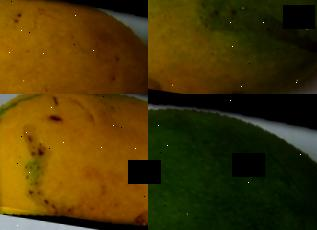PartiallyRipe: (148, 0, 317, 94)
Ripe: (0, 94, 148, 230), (0, 0, 148, 94)
Unripe: (148, 94, 317, 230)
